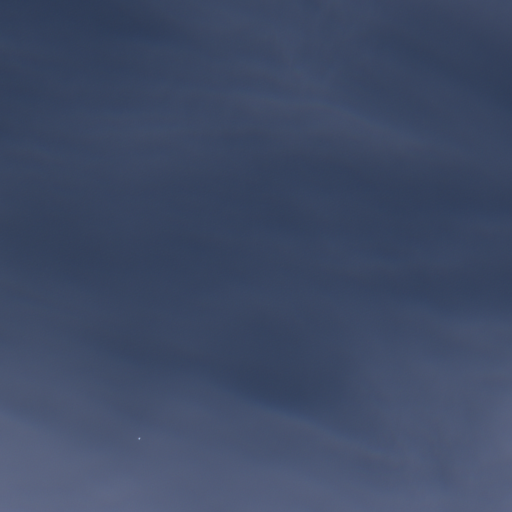Iceberg: (138, 437, 140, 439)
